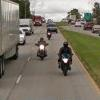Motorcycle: (54, 37, 77, 79)
